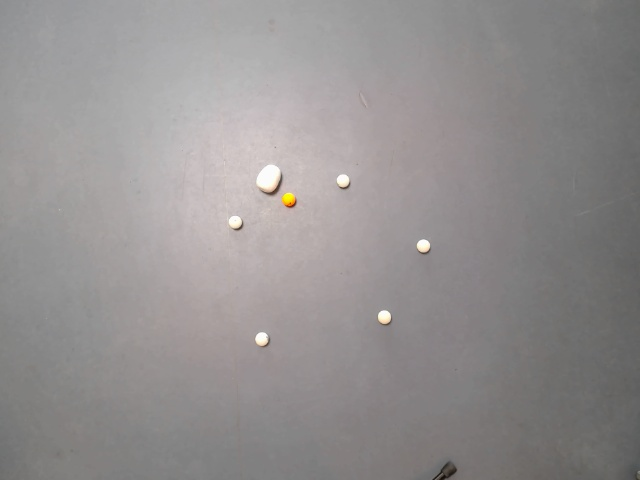egg: (255, 164, 281, 193)
orange: (281, 192, 297, 207)
white: (255, 330, 269, 347), (416, 239, 430, 255), (378, 310, 392, 325), (336, 174, 350, 188), (229, 215, 242, 230)
